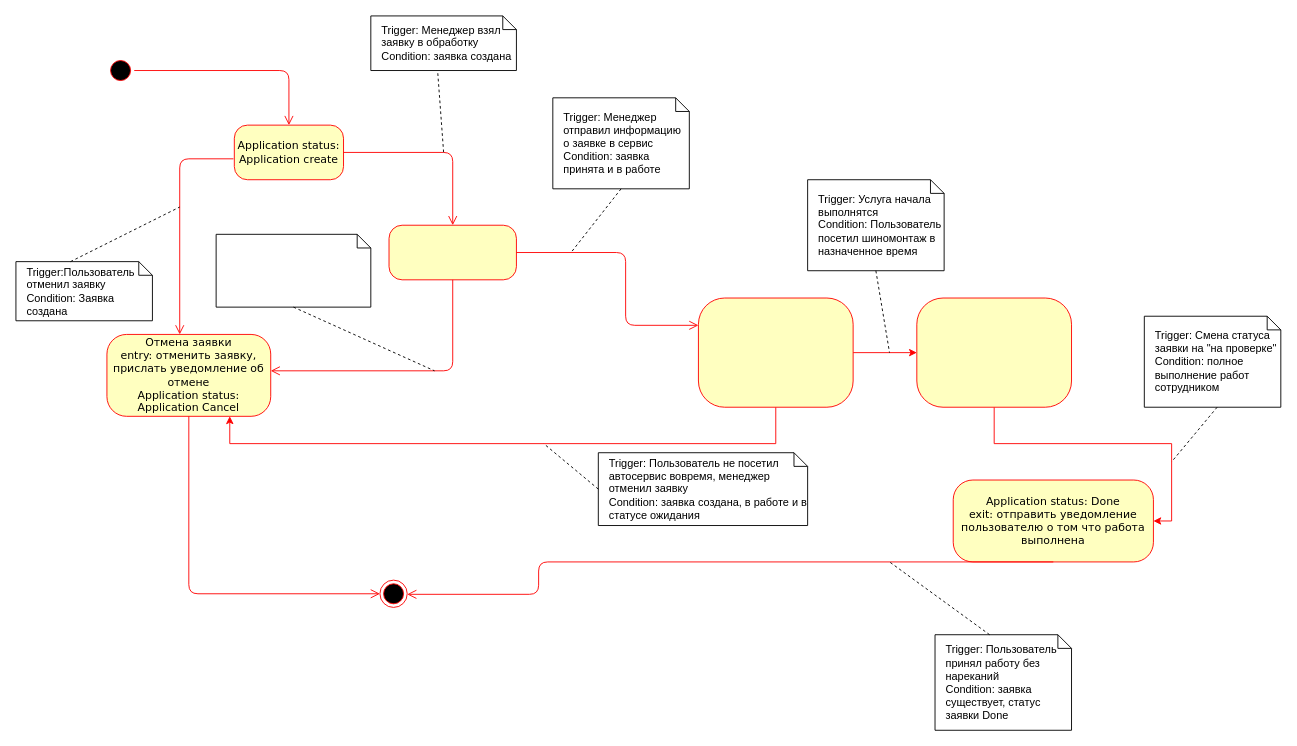
Some shapes in this 1297 by 746 pixel diagram are drawn without their labels. The box of each missing label's shape, as (x1, y1, x2, y2) in pixels:
Application status: On check: (916, 297, 1072, 407)
Application status: Waiting client entry: прислать напоминание о дате и времени: (698, 297, 853, 407)
Application status:On work: (388, 224, 516, 280)
Trigger:Пользователь отменил заявку Condition: Заявка создана и в работе: (215, 233, 371, 307)
